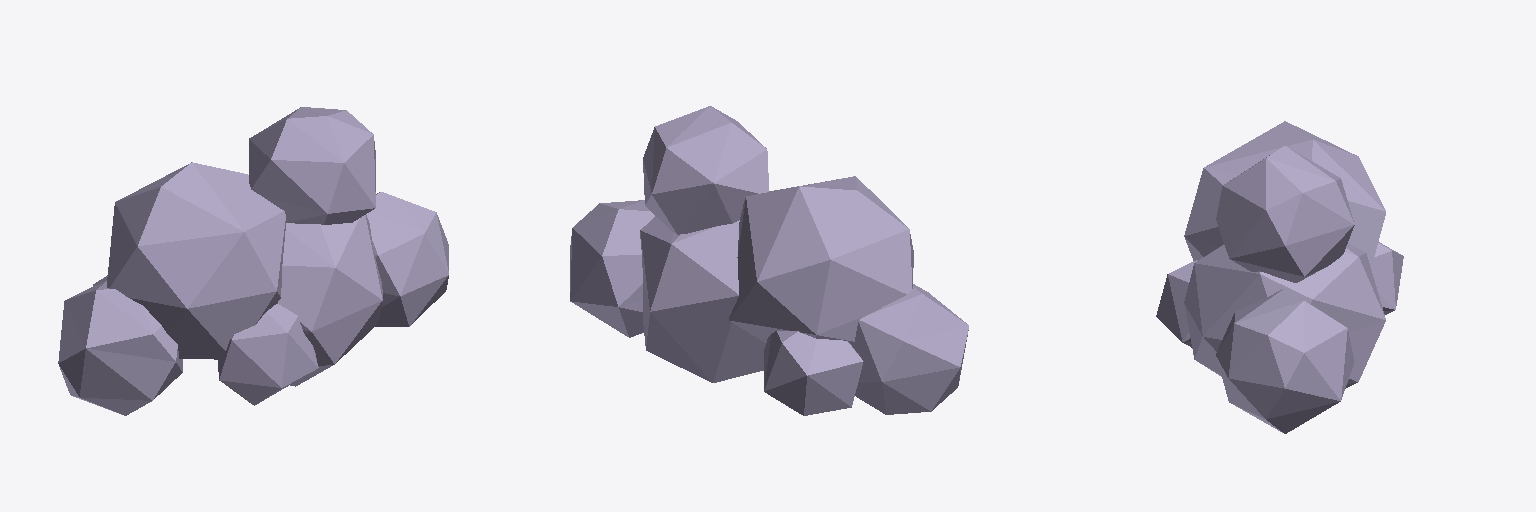
File: cloud1.obj
3 renders of one model, left to right at view 1: azimuth 30°, elevation 25°; view 2: azimuth 150°, elevation 25°; view 3: azimuth 270°, elevation 25°, orthographic.
Visible parts, largest first — view 1: Cloud_3_Icosphere.042; view 2: Cloud_3_Icosphere.042; view 3: Cloud_3_Icosphere.042.
Part boxes in pixels (left/top/right/bottom): Cloud_3_Icosphere.042: left=58, top=107, right=448, bottom=415; Cloud_3_Icosphere.042: left=570, top=106, right=968, bottom=415; Cloud_3_Icosphere.042: left=1156, top=121, right=1403, bottom=433.
Size of the model in its own units: 4.43 by 2.8 by 2.43.